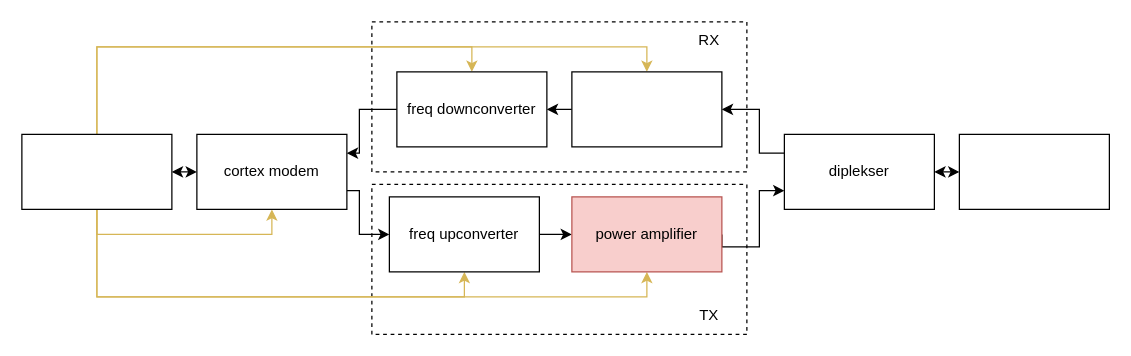
Some shapes in this 1131 by 356 pixel diagram are drawn without their labels. The shapes that lost their labels are listed below. From the top down, each one's centre as x and y in pixels, then its label:
(x=646, y=109): low noise amplifier
(x=96, y=171): control computer
(x=1033, y=171): antenna
